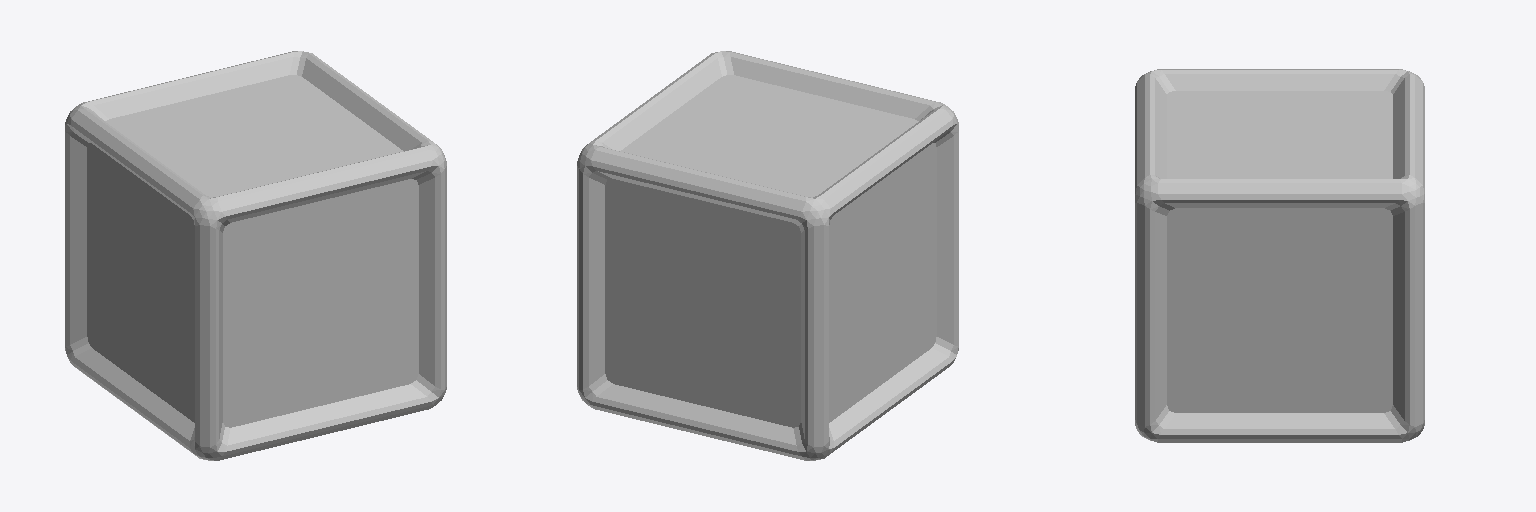
Rendered from noteCube.obj.
3 renders of one model, left to right at view 1: azimuth 30°, elevation 25°; view 2: azimuth 150°, elevation 25°; view 3: azimuth 270°, elevation 25°, orthographic.
Parts seen in each view (by area): view 1: Cube.001_Cube.002; view 2: Cube.001_Cube.002; view 3: Cube.001_Cube.002.
Boxes of the visible parts, <box> form: Cube.001_Cube.002: <box>65,51,446,460</box>; Cube.001_Cube.002: <box>577,51,958,460</box>; Cube.001_Cube.002: <box>1135,69,1424,442</box>.
Size of the model in its own units: 2.24 by 2.24 by 2.24.